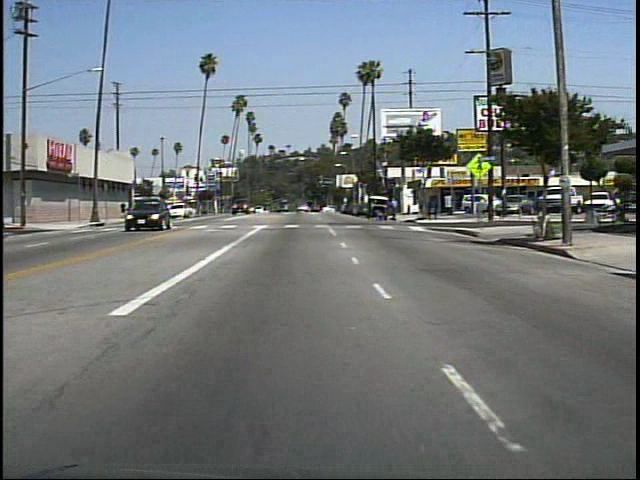person: (390, 194, 404, 225), (374, 207, 390, 226), (120, 198, 125, 219)
